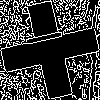I: (25, 25, 73, 49)
